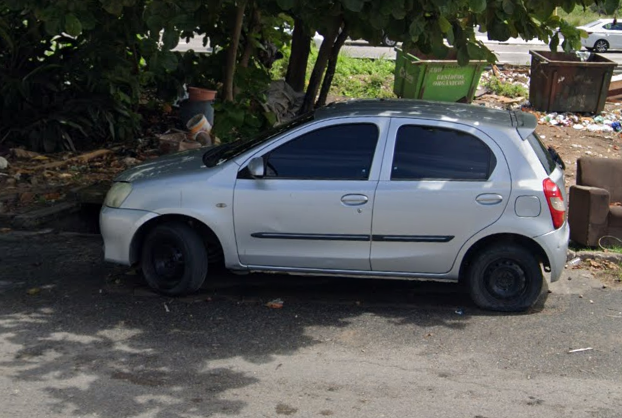car: (100, 96, 570, 317)
